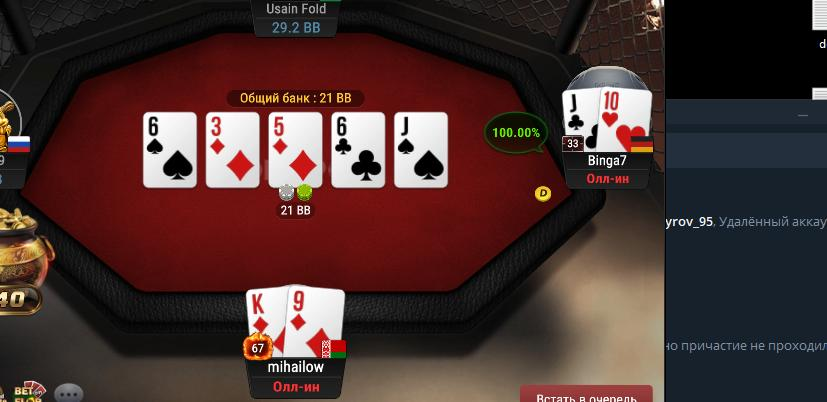10h: (601, 87, 652, 156)
3d: (206, 113, 259, 185)
5d: (269, 114, 322, 186)
6c: (332, 112, 384, 188)
6s: (144, 112, 196, 188)
9d: (286, 285, 344, 359)
Jc: (562, 90, 599, 151)
Js: (395, 112, 449, 188)
Kd: (245, 289, 286, 358)
